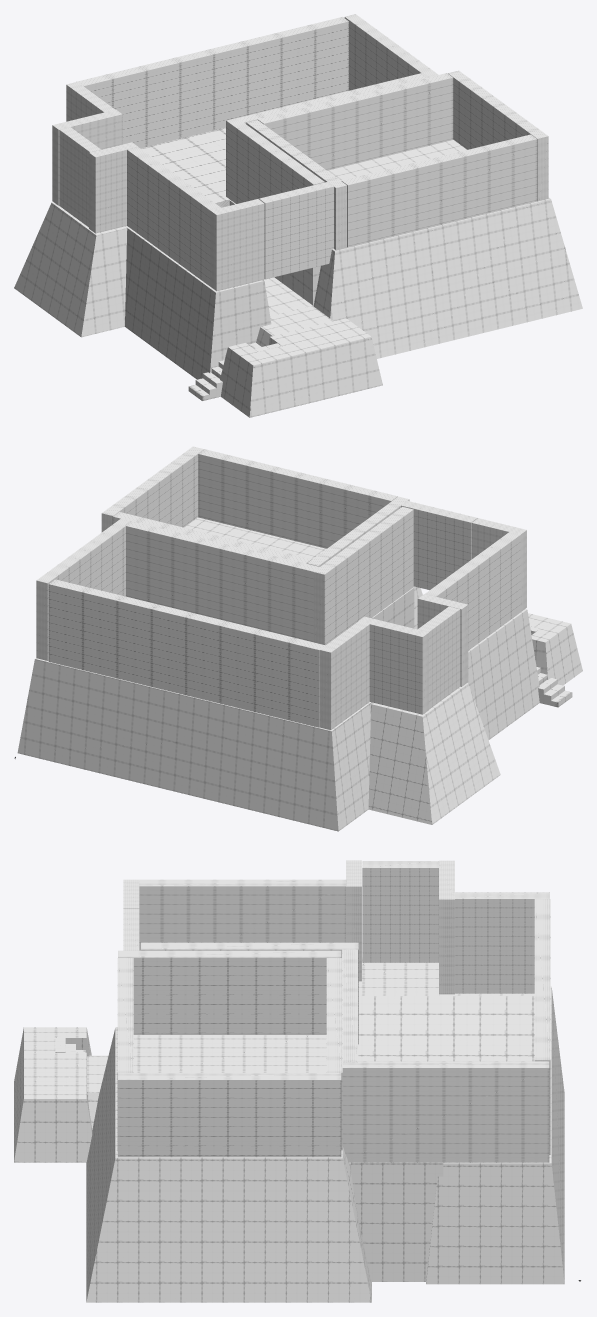
File: castle2.obj
3 renders of one model, top to bottom at view 1: azimuth 30°, elevation 25°; view 2: azimuth 150°, elevation 25°; view 3: azimuth 270°, elevation 25°, orthographic. The views are drawn at different scales.
Visible parts, largest first — view 1: 土台3, 壁2_1, 壁2_12, 土台7, 壁2_10, 土台1床1, 土台6, 壁2_7, 壁2_15, 壁2_13, 壁2_9, 壁2_8 (+11 smaller); view 2: 土台4, 壁2_1, 壁2_14, 土台6, 壁2_12, 壁2_13, 土台7, 壁2_7, 壁2_4, 壁2_2, 壁2_3, 壁2_9 (+10 smaller); view 3: 土台3, 壁2_2, 壁2_9, 土台4, 壁2_11, 壁2_7, 床__1_, 土台1床1, 土台5, 壁2_3, 壁2_5, 壁2_1 (+9 smaller).
Boxes of the visible parts, left/top/right/bottom form: 土台3: left=313, top=140, right=582, bottom=358; 壁2_1: left=77, top=17, right=348, bottom=148; 壁2_12: left=341, top=134, right=537, bottom=247; 土台7: left=125, top=226, right=271, bottom=379; 壁2_10: left=257, top=73, right=453, bottom=170; 土台1床1: left=220, top=318, right=382, bottom=417; 土台6: left=14, top=202, right=127, bottom=337; 壁2_7: left=127, top=147, right=220, bottom=286; 壁2_15: left=259, top=182, right=333, bottom=279; 壁2_13: left=226, top=118, right=324, bottom=203; 壁2_9: left=448, top=70, right=548, bottom=201; 壁2_8: left=210, top=199, right=264, bottom=291; 土台4: left=17, top=658, right=372, bottom=831; 壁2_1: left=48, top=579, right=325, bottom=727; 壁2_14: left=124, top=521, right=319, bottom=641; 土台6: left=368, top=683, right=500, bottom=824; 壁2_12: left=198, top=449, right=397, bottom=548; 壁2_13: left=313, top=506, right=413, bottom=645; 土台7: left=467, top=609, right=539, bottom=739; 壁2_7: left=425, top=532, right=520, bottom=650; 壁2_4: left=357, top=616, right=429, bottom=714; 壁2_2: left=36, top=518, right=129, bottom=660; 壁2_3: left=320, top=620, right=370, bottom=729; 壁2_9: left=101, top=446, right=204, bottom=532; 土台3: left=86, top=1027, right=371, bottom=1302; 壁2_2: left=341, top=1061, right=549, bottom=1162; 壁2_9: left=118, top=1073, right=341, bottom=1157; 土台4: left=426, top=986, right=564, bottom=1284; 壁2_11: left=118, top=950, right=341, bottom=1034; 壁2_7: left=139, top=879, right=346, bottom=950; 床__1_: left=358, top=996, right=534, bottom=1061; 土台1床1: left=14, top=1027, right=92, bottom=1162; 土台5: left=351, top=1162, right=443, bottom=1281; 壁2_3: left=452, top=892, right=549, bottom=993; 壁2_5: left=362, top=861, right=439, bottom=962; 壁2_1: left=534, top=899, right=550, bottom=1154.
Size of what is drawn, in the model's own units: 27.7 by 10.99 by 27.01.
